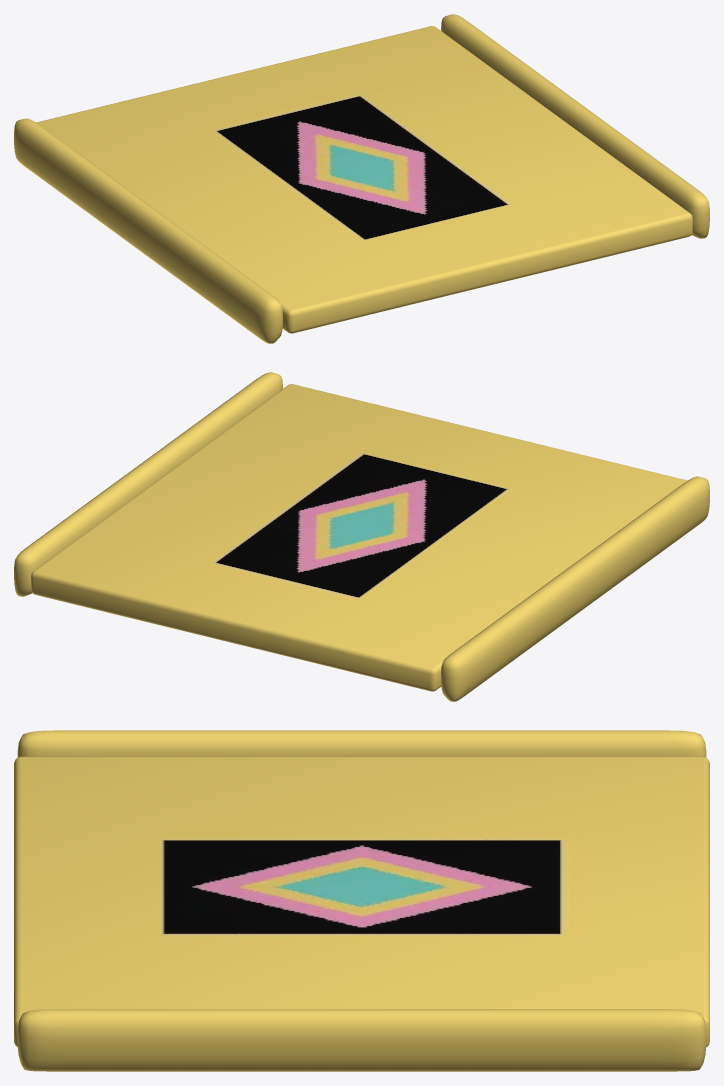
Rendered from conveyor.glb.
3 renders of one model, top to bottom at view 1: azimuth 30°, elevation 25°; view 2: azimuth 150°, elevation 25°; view 3: azimuth 270°, elevation 25°, orthographic. The views are drawn at different scales.
Parts seen in each view (by area): view 1: belt_surface, rails; view 2: belt_surface, rails; view 3: belt_surface, rails.
Part boxes in pixels (left/top/right/bottom): belt_surface: left=36, top=26, right=692, bottom=333; rails: left=14, top=14, right=709, bottom=343; belt_surface: left=31, top=384, right=687, bottom=691; rails: left=14, top=372, right=709, bottom=701; belt_surface: left=14, top=756, right=709, bottom=1047; rails: left=17, top=730, right=706, bottom=1071.
Bounding box in the file's own units: 3.99 × 0.3716 × 4.
2 materials, 2 textured.
